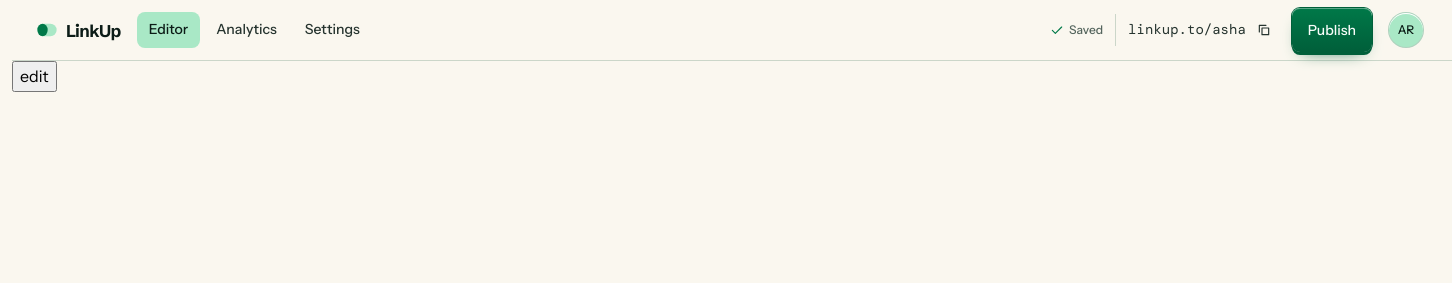
AppShell › opens the account menu with who is signed in, and works from the keyboard
Click the button with aria-label "Account menu" at (1406, 30), box left=1384, top=8, right=1428, bottom=52
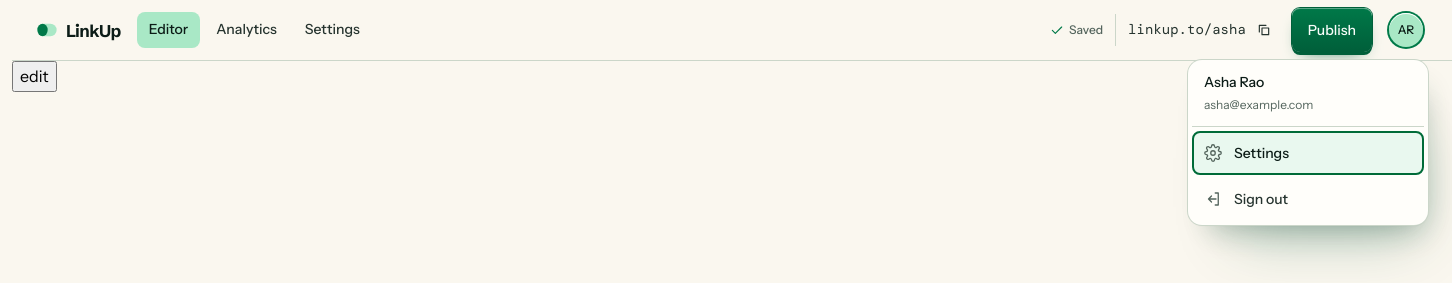
Check: the button with aria-label "Account menu" is expanded, box left=1384, top=8, right=1428, bottom=52
Check: the element with class "menu__head" reads "Asha Rao asha@example.com", box left=1192, top=64, right=1424, bottom=127
Press ArrowDown in the menu item "Settings", box left=1192, top=131, right=1424, bottom=175
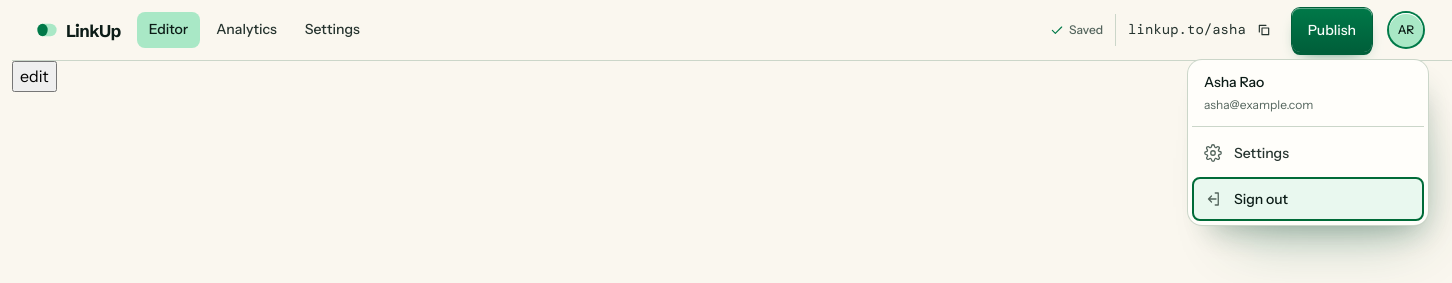
Press ArrowDown in the menu item "Sign out", box left=1192, top=177, right=1424, bottom=221
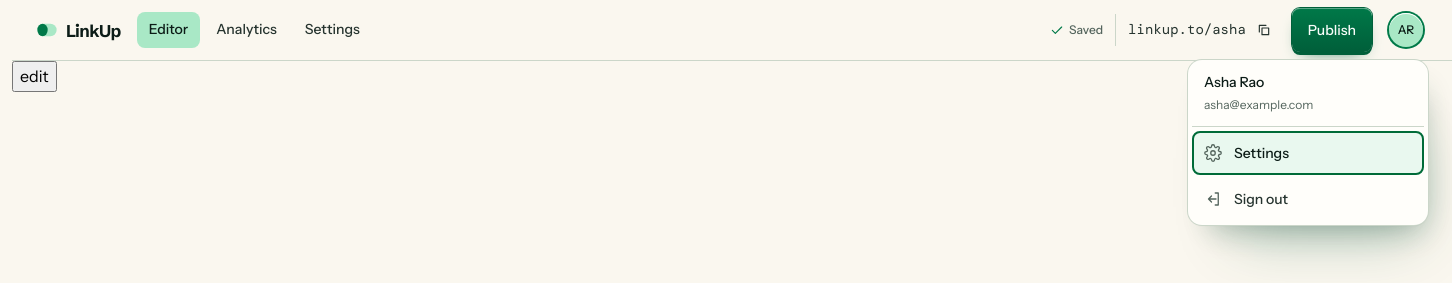
Press End in the menu item "Settings", box left=1192, top=131, right=1424, bottom=175
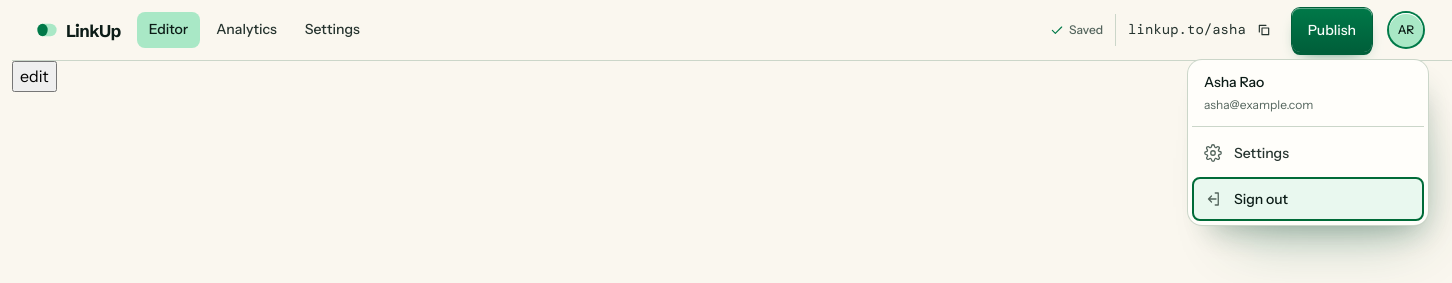
Press Home in the menu item "Sign out", box left=1192, top=177, right=1424, bottom=221
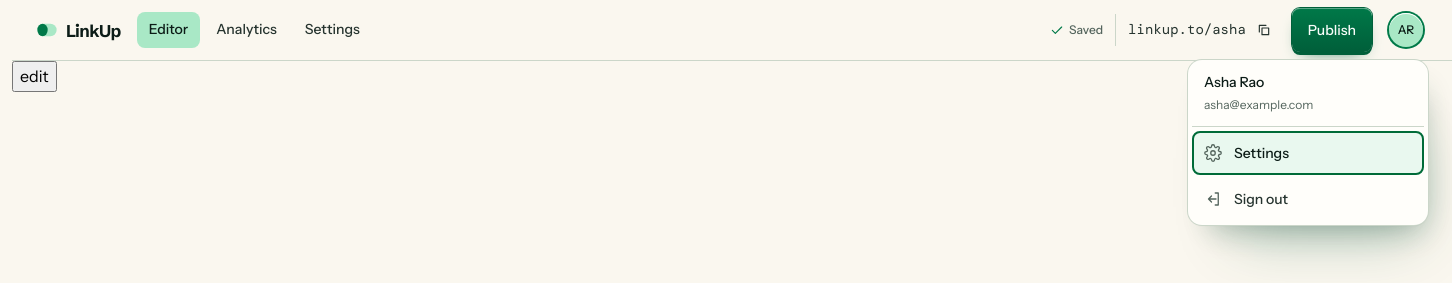
Press Escape in the menu item "Settings", box left=1192, top=131, right=1424, bottom=175
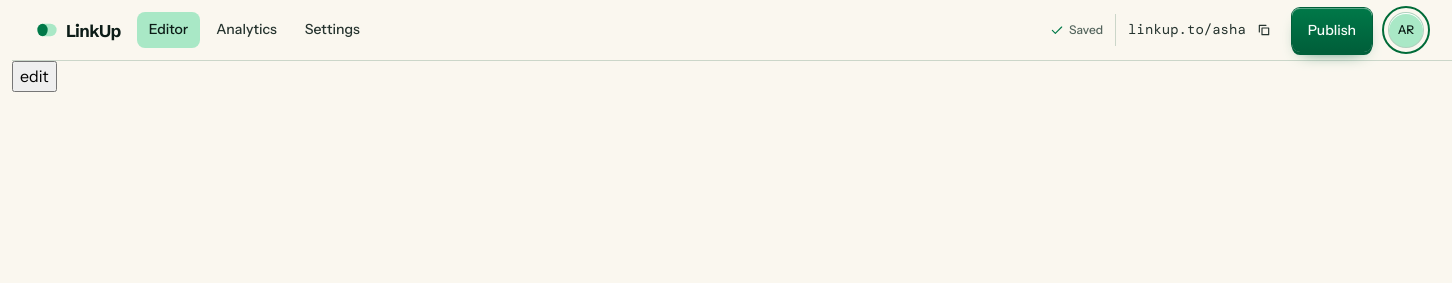
Check: the menu "Settings Sign out" is gone
